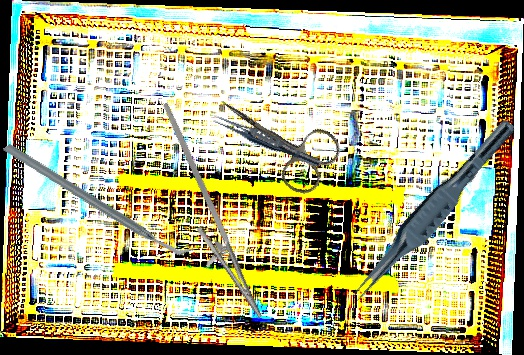Chopper: (1, 91, 195, 308)
Iris Scissors: (202, 71, 347, 202)
Needle Holder: (122, 101, 288, 329)
Tissue Forceps: (346, 109, 518, 312), (209, 111, 324, 170)
